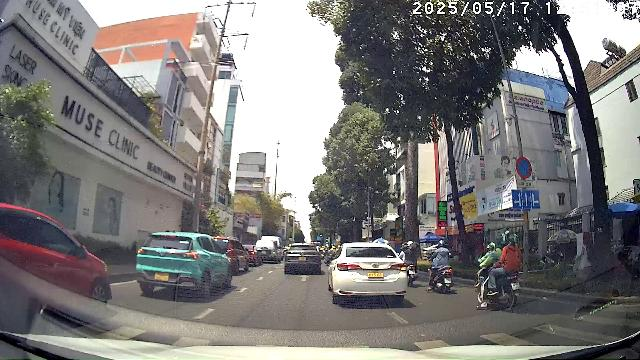131a-cam-do-xe: (515, 157, 532, 179)
